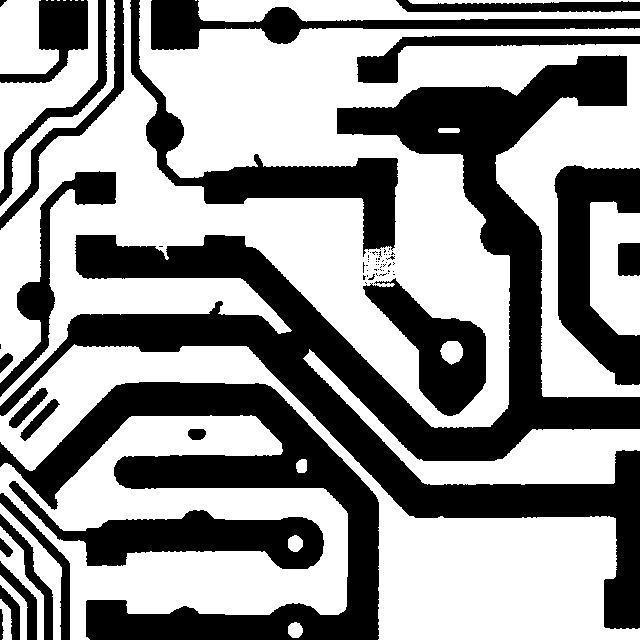copper: (178, 419, 215, 449)
mousebite: (144, 232, 178, 269)
open: (349, 234, 407, 296)
pin-hole: (286, 449, 316, 482), (428, 118, 469, 142)
short: (268, 319, 320, 370)
spur: (198, 291, 232, 328), (244, 144, 273, 181)
